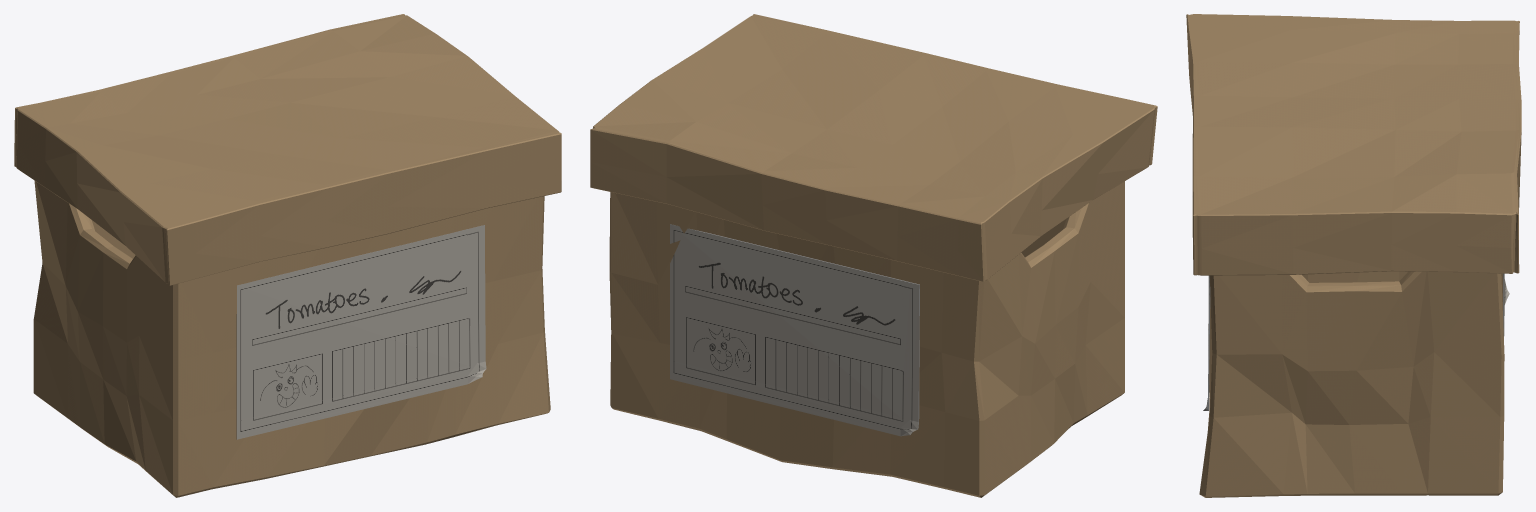
3 renders of one model, left to right at view 1: azimuth 30°, elevation 25°; view 2: azimuth 150°, elevation 25°; view 3: azimuth 270°, elevation 25°, orthographic.
Visible parts, largest first — view 1: Cube_7, Cube, Cube_2; view 2: Cube_7, Cube, Cube_3; view 3: Cube_7, Cube.
Boxes of the visible parts, x1=… form: Cube_7: x1=14, y1=14, x2=561, y2=285; Cube: x1=33, y1=180, x2=550, y2=497; Cube_2: x1=236, y1=225, x2=486, y2=439; Cube_7: x1=590, y1=14, x2=1157, y2=281; Cube: x1=609, y1=181, x2=1124, y2=497; Cube_3: x1=670, y1=224, x2=919, y2=436; Cube_7: x1=1186, y1=14, x2=1521, y2=275; Cube: x1=1199, y1=271, x2=1504, y2=497.
Size of the model in its own units: 326 by 232 by 230.
Materials: 4 (4 with a texture image).
